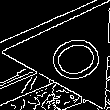O_NE: (35, 23, 109, 85)
